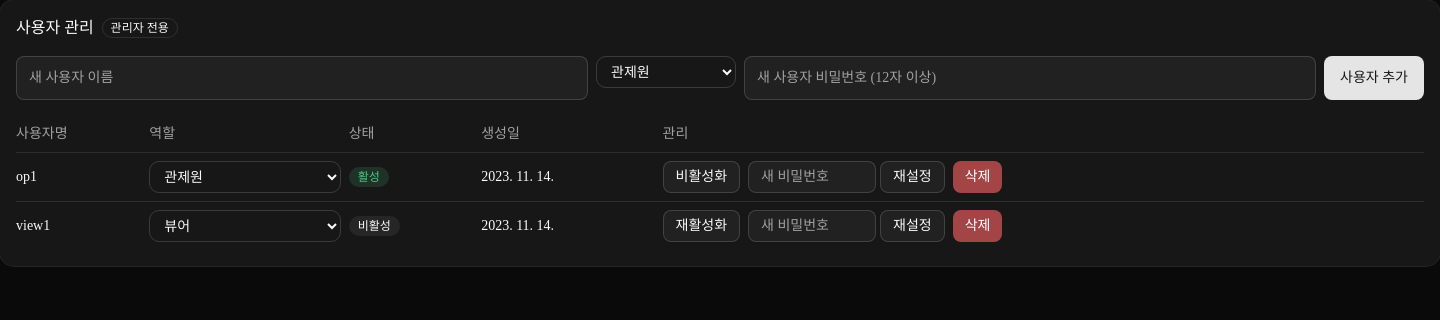
UserManagement › shows the server error detail when creation fails
Type "op1" into the field labelled "새 사용자 이름" at (302, 78), box [16,56,588,100]
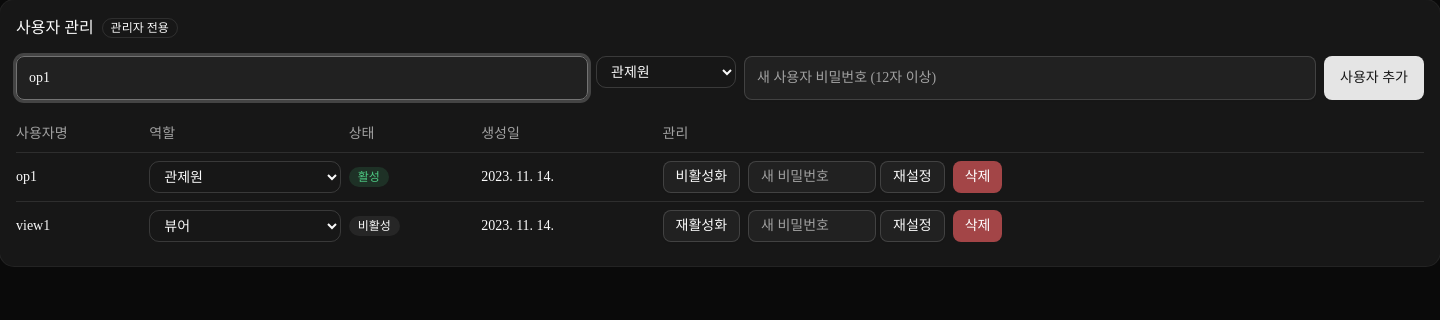
Type "new-password-123" into the password field labelled "새 사용자 비밀번호" at (1030, 78), box [744,56,1316,100]
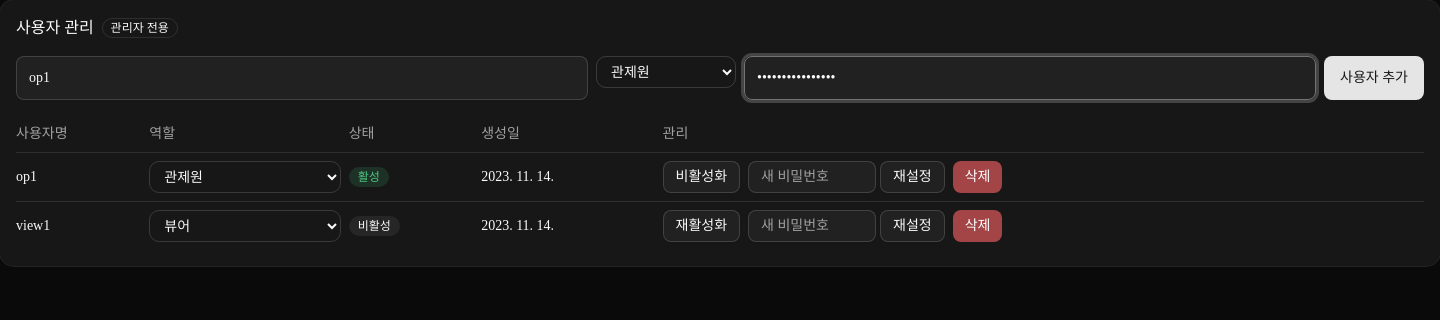
Click the button "사용자 추가" at (1374, 78), box [1324,56,1424,100]
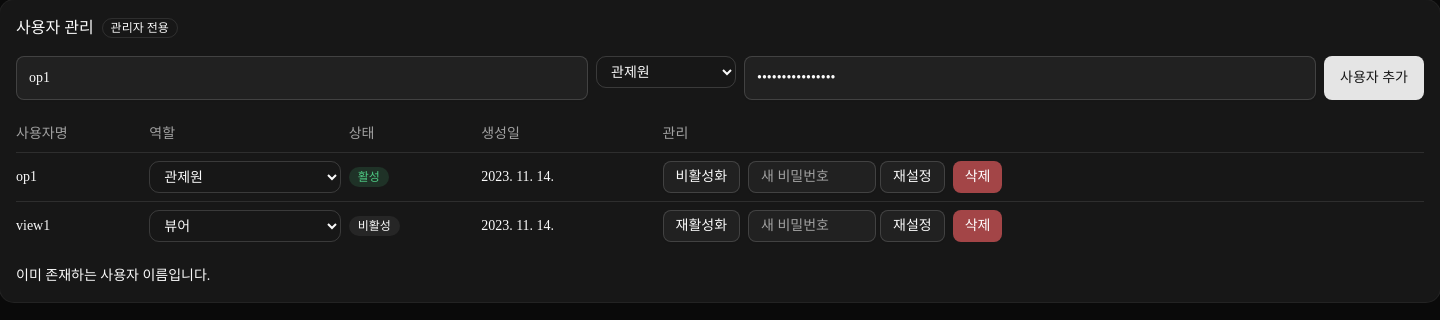
Result: the message reads "이미 존재하는 사용자 이름입니다." at [16,268,210,283]
